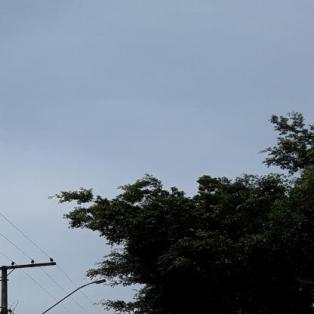Poste: (0, 263, 9, 314)
